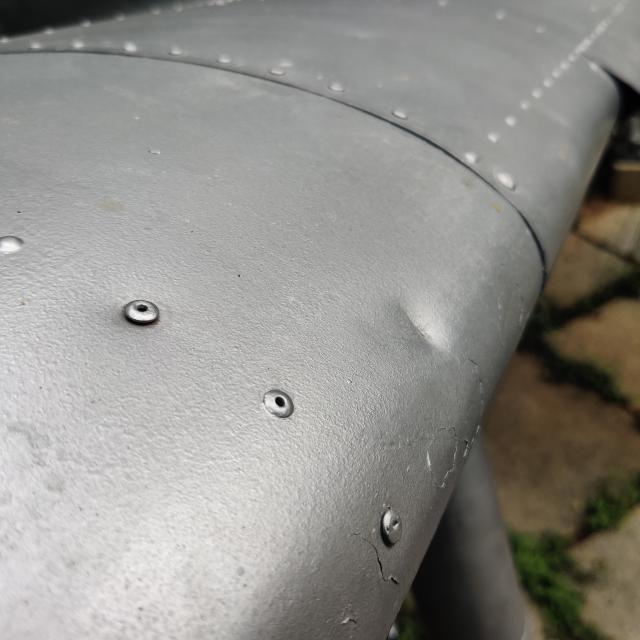dent: (365, 273, 476, 376)
